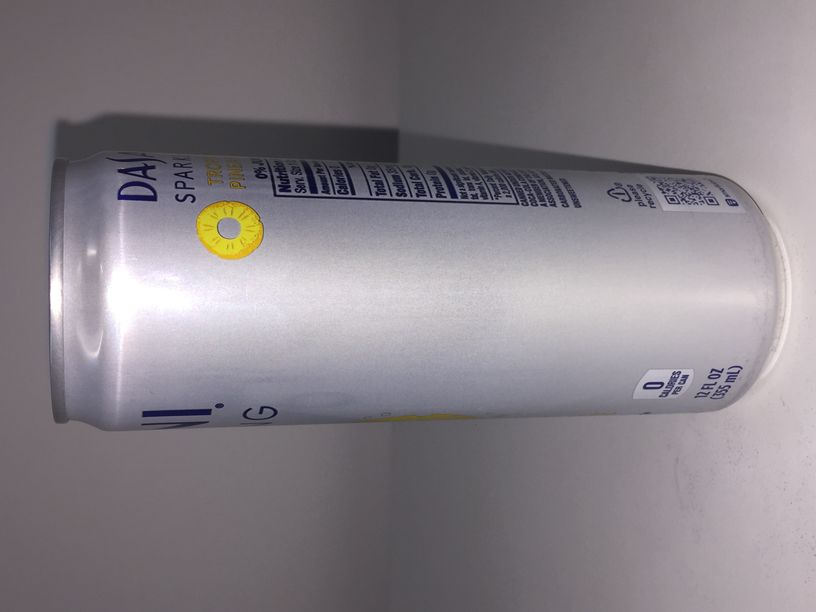pineapple: (47, 153, 782, 433)
